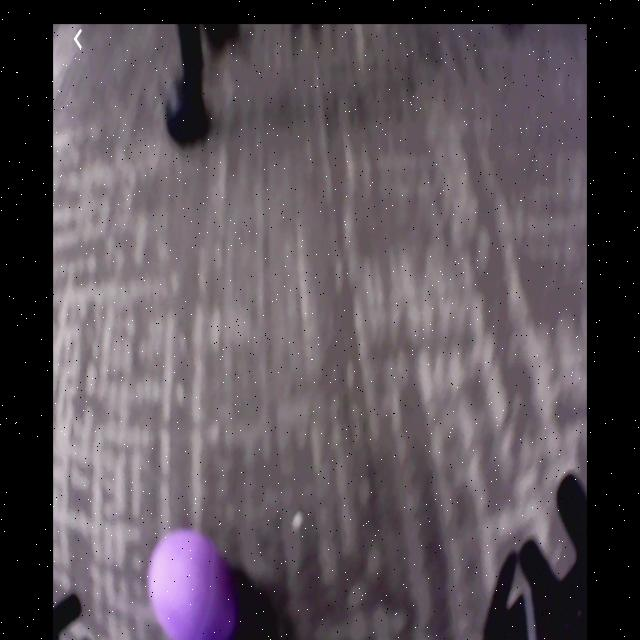ball: (150, 530, 237, 640)
